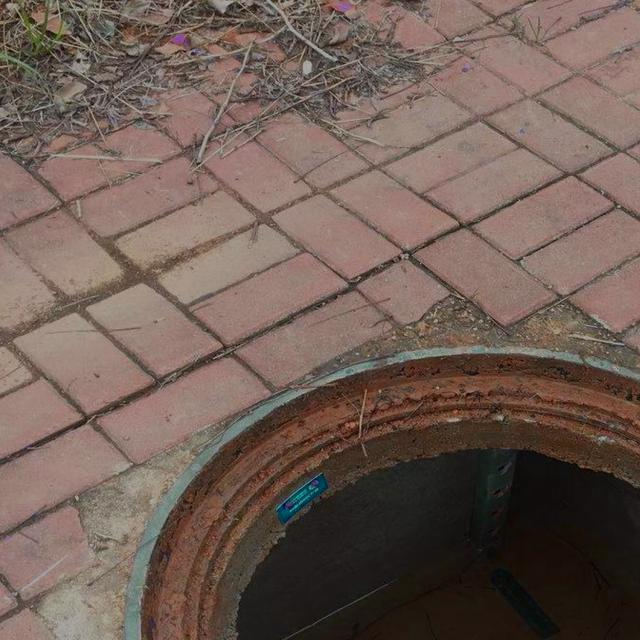lose: (117, 331, 640, 640)
